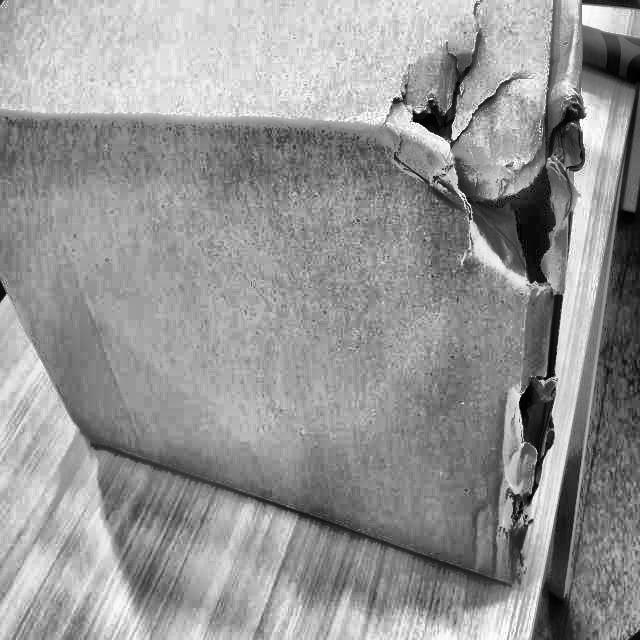box: (3, 1, 596, 596)
hole: (407, 91, 580, 288), (499, 367, 560, 507)
